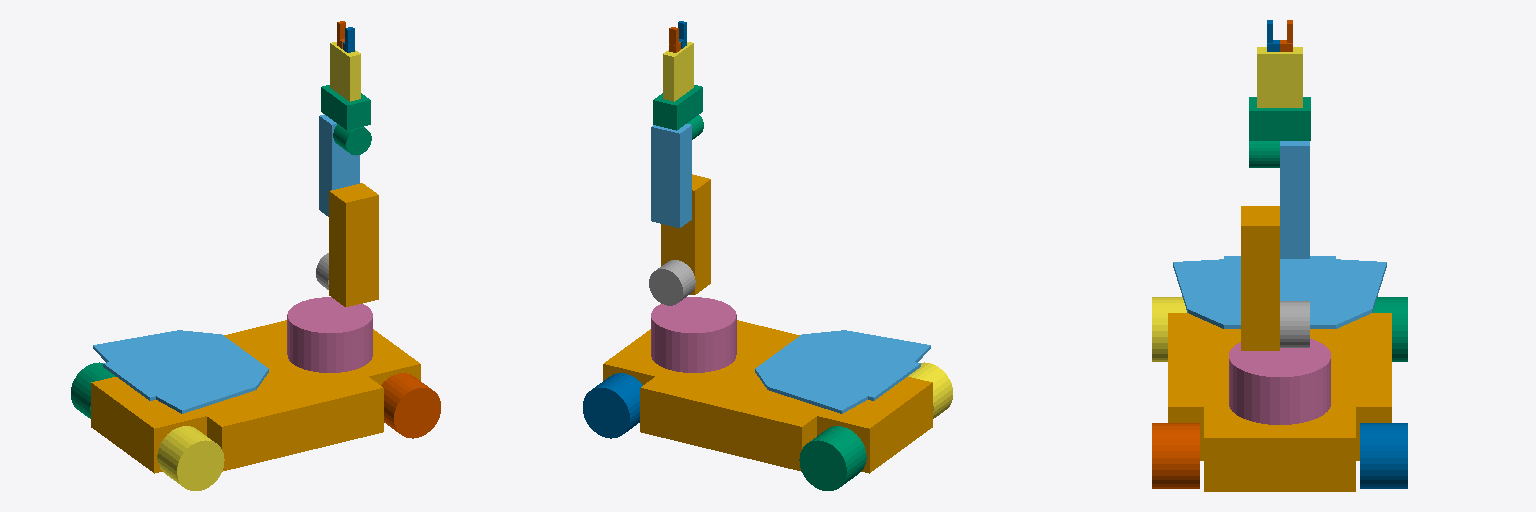
The robot description file, URDF, robot "[local-path]/Desktop/Учеба/Youbot.urdf":
<?xml version="1.0"?>
<robot name="C:/Users/misak/Desktop/Учеба/Youbot.urdf" xmlns:xacro="http://ros.org/wiki/xacro">
  <link name="base_link">
    <visual>
      <origin xyz="0 0 -0.045" rpy="0 0 0"/>
      <geometry>
        <box size="0.34 0.34 0.09"/>
      </geometry>
    </visual>
    <collision>
      <origin xyz="0 0 -0.045" rpy="0 0 0"/>
      <geometry>
        <box size="0.34 0.34 0.09"/>
      </geometry>
    </collision>
    <visual>
      <origin xyz="0 0 -0.045" rpy="0 0 0"/>
      <geometry>
        <box size="0.56 0.23 0.09"/>
      </geometry>
    </visual>
    <collision>
      <origin xyz="0 0 -0.045" rpy="0 0 0"/>
      <geometry>
        <box size="0.56 0.23 0.09"/>
      </geometry>
    </collision>
  </link>
  <link name="plate">
    <visual>
      <origin xyz="0.008 0 0.045" rpy="0 0 0"/>
      <geometry>
        <box size="0.25 0.17 0.007"/>
      </geometry>
    </visual>
    <collision>
      <origin xyz="0.008 0 0.045" rpy="0 0 0"/>
      <geometry>
        <box size="0.25 0.17 0.007"/>
      </geometry>
    </collision>
    <visual>
      <origin xyz="-0.015 0.112 0.045" rpy="0 0 -0.13"/>
      <geometry>
        <box size="0.17 0.08 0.007"/>
      </geometry>
    </visual>
    <collision>
      <origin xyz="-0.015 0.112 0.045" rpy="0 0 -0.13"/>
      <geometry>
        <box size="0.17 0.08 0.007"/>
      </geometry>
    </collision>
    <visual>
      <origin xyz="-0.015 -0.112 0.045" rpy="0 0 0.13"/>
      <geometry>
        <box size="0.17 0.08 0.007"/>
      </geometry>
    </visual>
    <collision>
      <origin xyz="-0.015 -0.112 0.045" rpy="0 0 0.13"/>
      <geometry>
        <box size="0.17 0.08 0.007"/>
      </geometry>
    </collision>
    <visual>
      <origin xyz="0.076 0.084 0.045" rpy="0 0 0.81"/>
      <geometry>
        <box size="0.08 0.08 0.007"/>
      </geometry>
    </visual>
    <collision>
      <origin xyz="0.076 0.084 0.045" rpy="0 0 0.81"/>
      <geometry>
        <box size="0.08 0.08 0.007"/>
      </geometry>
    </collision>
    <visual>
      <origin xyz="0.076 -0.084 0.045" rpy="0 0 -0.81"/>
      <geometry>
        <box size="0.08 0.08 0.007"/>
      </geometry>
    </visual>
    <collision>
      <origin xyz="0.076 -0.084 0.045" rpy="0 0 -0.81"/>
      <geometry>
        <box size="0.08 0.08 0.007"/>
      </geometry>
    </collision>
  </link>
  <joint name="base_link_plate_joint" type="fixed">
    <parent link="base_link"/>
    <child link="plate"/>
    <origin xyz="-0.155 0 0" rpy="0 0 0"/>
  </joint>
  <joint name="wheel4" type="continuous">
    <parent link="base_link"/>
    <child link="wheel4"/>
    <axis xyz="0 1 0"/>
    <limit effort="10" velocity="14.81"/>
    <origin xyz="-0.228 0.158 -0.055" rpy="0 0 0"/>
  </joint>
  <link name="wheel4">
    <visual>
      <origin xyz="0 0 0" rpy="-1.5708 0 0"/>
      <geometry>
        <cylinder radius="0.05" length="0.072"/>
      </geometry>
    </visual>
    <collision>
      <origin xyz="0 0 0" rpy="-1.5708 0 0"/>
      <geometry>
        <cylinder radius="0.05" length="0.072"/>
      </geometry>
    </collision>
  </link>
  <joint name="wheel3" type="continuous">
    <parent link="base_link"/>
    <child link="wheel3"/>
    <axis xyz="0 1 0"/>
    <limit effort="10" velocity="14.81"/>
    <origin xyz="-0.228 -0.158 -0.055" rpy="0 0 0"/>
  </joint>
  <link name="wheel3">
    <visual>
      <origin xyz="0 0 0" rpy="-1.5708 0 0"/>
      <geometry>
        <cylinder radius="0.05" length="0.072"/>
      </geometry>
    </visual>
    <collision>
      <origin xyz="0 0 0" rpy="-1.5708 0 0"/>
      <geometry>
        <cylinder radius="0.05" length="0.072"/>
      </geometry>
    </collision>
  </link>
  <joint name="wheel2" type="continuous">
    <parent link="base_link"/>
    <child link="wheel2"/>
    <axis xyz="0 1 0"/>
    <limit effort="10" velocity="14.81"/>
    <origin xyz="0.228 0.158 -0.055" rpy="0 0 0"/>
  </joint>
  <link name="wheel2">
    <visual>
      <origin xyz="0 0 0" rpy="-1.5708 0 0"/>
      <geometry>
        <cylinder radius="0.05" length="0.072"/>
      </geometry>
    </visual>
    <collision>
      <origin xyz="0 0 0" rpy="-1.5708 0 0"/>
      <geometry>
        <cylinder radius="0.05" length="0.072"/>
      </geometry>
    </collision>
  </link>
  <joint name="wheel1" type="continuous">
    <parent link="base_link"/>
    <child link="wheel1"/>
    <axis xyz="0 1 0"/>
    <limit effort="10" velocity="14.81"/>
    <origin xyz="0.228 -0.158 -0.055" rpy="0 0 0"/>
  </joint>
  <link name="wheel1">
    <visual>
      <origin xyz="0 0 0" rpy="-1.5708 0 0"/>
      <geometry>
        <cylinder radius="0.05" length="0.072"/>
      </geometry>
    </visual>
    <collision>
      <origin xyz="0 0 0" rpy="-1.5708 0 0"/>
      <geometry>
        <cylinder radius="0.05" length="0.072"/>
      </geometry>
    </collision>
  </link>
  <link name="arm">
    <visual>
      <origin xyz="0 0 0.04" rpy="0 0 0"/>
      <geometry>
        <cylinder radius="0.078" length="0.08"/>
      </geometry>
    </visual>
    <collision>
      <origin xyz="0 0 0.04" rpy="0 0 0"/>
      <geometry>
        <cylinder radius="0.078" length="0.08"/>
      </geometry>
    </collision>
  </link>
  <joint name="base_link_arm_joint" type="fixed">
    <parent link="base_link"/>
    <child link="arm"/>
    <origin xyz="0.156 0 0" rpy="0 0 0"/>
  </joint>
  <joint name="arm1" type="revolute">
    <parent link="arm"/>
    <child link="solid"/>
    <axis xyz="0 0 1"/>
    <limit effort="9.5" lower="-2.9496" upper="2.9496" velocity="1.5708"/>
    <origin xyz="0 0 0.077" rpy="0 0 0"/>
  </joint>
  <link name="solid">
    <visual>
      <origin xyz="0.032 0.023 0.07" rpy="-1.5708 0 0"/>
      <geometry>
        <cylinder radius="0.036" length="0.046"/>
      </geometry>
    </visual>
    <collision>
      <origin xyz="0.032 0.023 0.07" rpy="-1.5708 0 0"/>
      <geometry>
        <cylinder radius="0.036" length="0.046"/>
      </geometry>
    </collision>
  </link>
  <joint name="arm2" type="revolute">
    <parent link="solid"/>
    <child link="solid_0"/>
    <axis xyz="0 -1 0"/>
    <limit effort="9.5" lower="-1.13446" upper="1.5708" velocity="1.5708"/>
    <origin xyz="0.033 0 0.07" rpy="0 0 0"/>
  </joint>
  <link name="solid_0">
    <visual>
      <origin xyz="0 -0.03 0.078" rpy="0 0 0"/>
      <geometry>
        <box size="0.07 0.06 0.21"/>
      </geometry>
    </visual>
    <collision>
      <origin xyz="0 -0.03 0.078" rpy="0 0 0"/>
      <geometry>
        <box size="0.07 0.06 0.21"/>
      </geometry>
    </collision>
  </link>
  <joint name="arm3" type="revolute">
    <parent link="solid_0"/>
    <child link="solid_1"/>
    <axis xyz="0 -1 0"/>
    <limit effort="6" lower="-2.63545" upper="2.54818" velocity="1.5708"/>
    <origin xyz="0 0 0.155" rpy="0 0 0"/>
  </joint>
  <link name="solid_1">
    <visual>
      <origin xyz="0 0.0225 0.065" rpy="0 0 0"/>
      <geometry>
        <box size="0.06 0.045 0.19"/>
      </geometry>
    </visual>
    <collision>
      <origin xyz="0 0.0225 0.065" rpy="0 0 0"/>
      <geometry>
        <box size="0.06 0.045 0.19"/>
      </geometry>
    </collision>
  </link>
  <joint name="arm4" type="revolute">
    <parent link="solid_1"/>
    <child link="solid_2"/>
    <axis xyz="0 -1 0"/>
    <limit effort="2" lower="-1.78024" upper="1.78024" velocity="1.5708"/>
    <origin xyz="0 0 0.135" rpy="0 0 0"/>
  </joint>
  <link name="solid_2">
    <visual>
      <origin xyz="0 0 0.056" rpy="0 0 0"/>
      <geometry>
        <box size="0.05 0.095 0.05"/>
      </geometry>
    </visual>
    <collision>
      <origin xyz="0 0 0.056" rpy="0 0 0"/>
      <geometry>
        <box size="0.05 0.095 0.05"/>
      </geometry>
    </collision>
    <visual>
      <origin xyz="0 -0.024 0.003" rpy="-1.5708 0 0"/>
      <geometry>
        <cylinder radius="0.027" length="0.047"/>
      </geometry>
    </visual>
    <collision>
      <origin xyz="0 -0.024 0.003" rpy="-1.5708 0 0"/>
      <geometry>
        <cylinder radius="0.027" length="0.047"/>
      </geometry>
    </collision>
  </link>
  <joint name="arm5" type="revolute">
    <parent link="solid_2"/>
    <child link="solid_3"/>
    <axis xyz="0 0 1"/>
    <limit effort="1" lower="-2.92343" upper="2.92343" velocity="1.5708"/>
    <origin xyz="0 0 0.081" rpy="0 0 0"/>
  </joint>
  <link name="solid_3">
    <visual>
      <origin xyz="0 0 0.045" rpy="0 0 0"/>
      <geometry>
        <box size="0.025 0.07 0.09"/>
      </geometry>
    </visual>
    <collision>
      <origin xyz="0 0 0.045" rpy="0 0 0"/>
      <geometry>
        <box size="0.025 0.07 0.09"/>
      </geometry>
    </collision>
  </link>
  <joint name="finger::right" type="prismatic">
    <parent link="solid_3"/>
    <child link="finger::right"/>
    <axis xyz="-0.000002 0 1"/>
    <origin xyz="0 0 0.09" rpy="-1.570796 -0.000002 3.141591"/>
    <limit effort="100" lower="0" upper="0.025" velocity="10"/>
  </joint>
  <link name="finger::right">
    <visual>
      <origin xyz="0 -0.031 0.015" rpy="0 0 0"/>
      <geometry>
        <box size="0.014 0.032 0.009"/>
      </geometry>
    </visual>
    <collision>
      <origin xyz="0 -0.031 0.015" rpy="0 0 0"/>
      <geometry>
        <box size="0.014 0.032 0.009"/>
      </geometry>
    </collision>
    <visual>
      <origin xyz="0 -0.007 0.01" rpy="0 0 0"/>
      <geometry>
        <box size="0.014 0.015 0.019"/>
      </geometry>
    </visual>
    <collision>
      <origin xyz="0 -0.007 0.01" rpy="0 0 0"/>
      <geometry>
        <box size="0.014 0.015 0.019"/>
      </geometry>
    </collision>
  </link>
  <joint name="finger::left" type="prismatic">
    <parent link="solid_3"/>
    <child link="finger::left"/>
    <axis xyz="0 0.000001 1"/>
    <origin xyz="0 0 0.09" rpy="-1.570795 0 0"/>
    <limit effort="100" lower="0" upper="0.025" velocity="10"/>
  </joint>
  <link name="finger::left">
    <visual>
      <origin xyz="0 -0.031 0.015" rpy="0 0 0"/>
      <geometry>
        <box size="0.014 0.032 0.009"/>
      </geometry>
    </visual>
    <collision>
      <origin xyz="0 -0.031 0.015" rpy="0 0 0"/>
      <geometry>
        <box size="0.014 0.032 0.009"/>
      </geometry>
    </collision>
    <visual>
      <origin xyz="0 -0.007 0.01" rpy="0 0 0"/>
      <geometry>
        <box size="0.014 0.015 0.019"/>
      </geometry>
    </visual>
    <collision>
      <origin xyz="0 -0.007 0.01" rpy="0 0 0"/>
      <geometry>
        <box size="0.014 0.015 0.019"/>
      </geometry>
    </collision>
  </link>
</robot>

--- What the picture shows (computed from the rendered views, not written in the file) ---
Views: 3 orthographic renders of the robot side by side, from view 1: azimuth 30°, elevation 25°; view 2: azimuth 150°, elevation 25°; view 3: azimuth 270°, elevation 25°.
Model [local-path]/Desktop/Учеба/Youbot.urdf with 14 links and 13 joints (5 revolute, 4 continuous, 2 prismatic, 2 fixed), rooted at base_link, posed all joints at 0.
Visible links, largest first — view 1: base_link, plate, solid_0, arm, wheel3, wheel1, solid_2, solid_1, solid_3, wheel4; view 2: base_link, plate, arm, solid_1, solid_0, wheel4, wheel2, solid_2, solid, solid_3, wheel3; view 3: base_link, plate, arm, solid_0, solid_1, wheel2, wheel1, solid_2, solid_3, solid, wheel4, wheel3.
Link boxes in pixels (x1,y1,x2,y2): base_link: (91,320,420,473); plate: (93,330,268,413); solid_0: (329,183,378,306); arm: (287,297,372,372); wheel3: (157,426,224,490); wheel1: (381,373,440,438); solid_2: (321,85,371,155); solid_1: (319,114,359,216); solid_3: (330,42,360,101); wheel4: (71,362,115,418); base_link: (603,320,932,473); plate: (755,330,930,413); arm: (651,297,736,372); solid_1: (651,124,691,227); solid_0: (661,174,710,294); wheel4: (799,426,866,490); wheel2: (583,373,642,438); solid_2: (653,85,703,139); solid: (649,260,695,305); solid_3: (663,42,693,101); wheel3: (908,362,952,418); base_link: (1168,313,1391,491); plate: (1173,256,1386,328); arm: (1229,338,1330,424); solid_0: (1241,206,1279,350); solid_1: (1280,141,1309,258); wheel2: (1360,423,1407,488); wheel1: (1152,423,1199,488); solid_2: (1249,97,1310,167); solid_3: (1257,47,1302,107); solid: (1280,301,1309,347); wheel4: (1373,297,1407,361); wheel3: (1152,297,1186,361).
Size in the robot's own frame: 0.56 by 0.388 by 0.76 metres.
Geometry: primitives only (box / cylinder / sphere), no mesh files.
